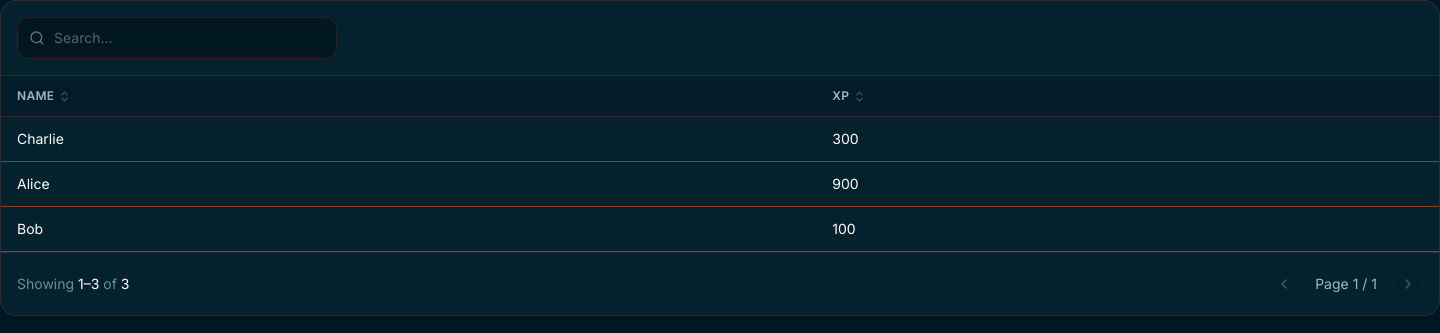
Scenario: DataTable › shows the empty message when no rows match
Step 1. Type "zzz" into the field with placeholder "Search..." → x=177, y=38, box 17,17 -> 337,59
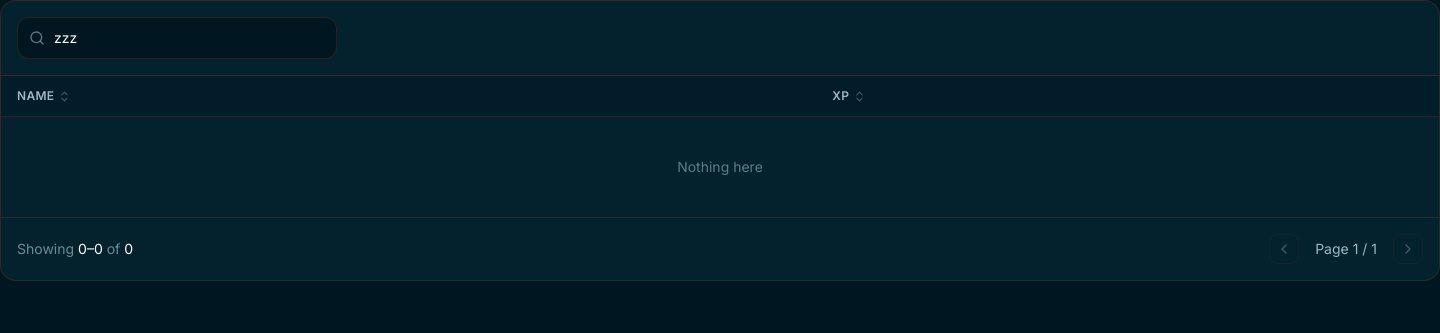
Expected: the text "Nothing here" is shown, 1,116 -> 1439,217
